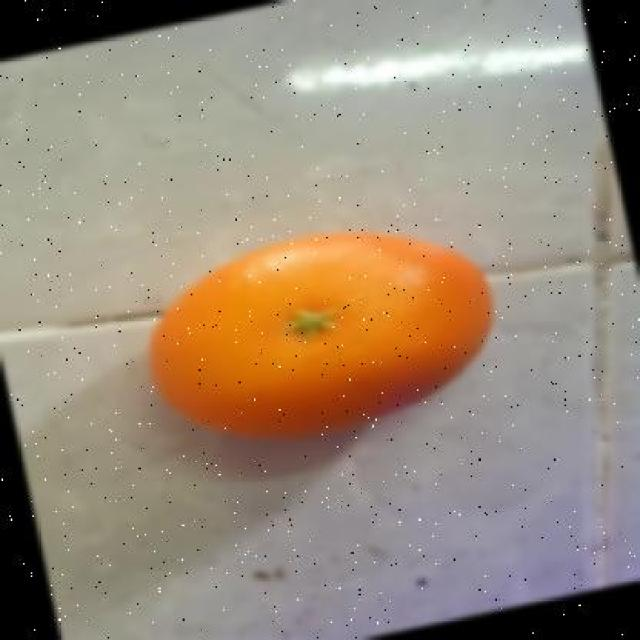Orange: (146, 226, 494, 442)
